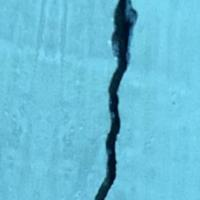crack: (61, 0, 153, 199)
